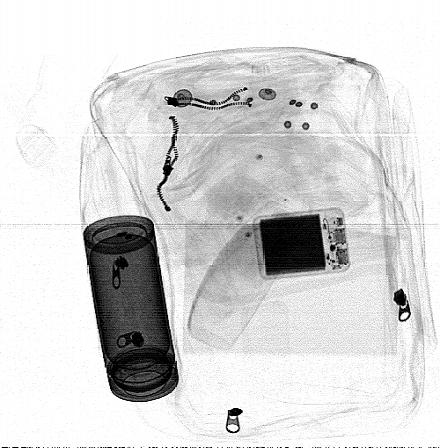Powerbank: (254, 206, 352, 282)
